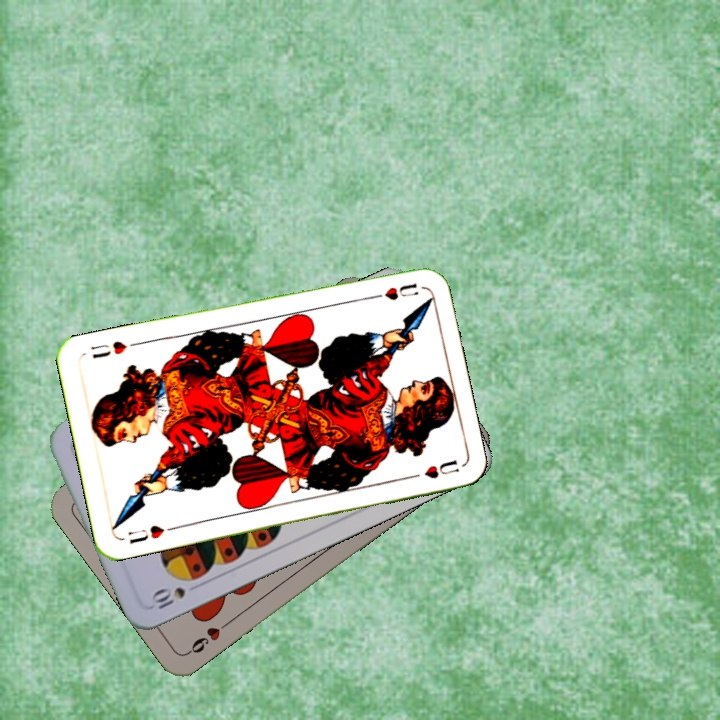H9: (183, 616, 234, 657)
HU: (124, 521, 177, 547), (365, 279, 420, 303)
S10: (146, 582, 188, 612)
